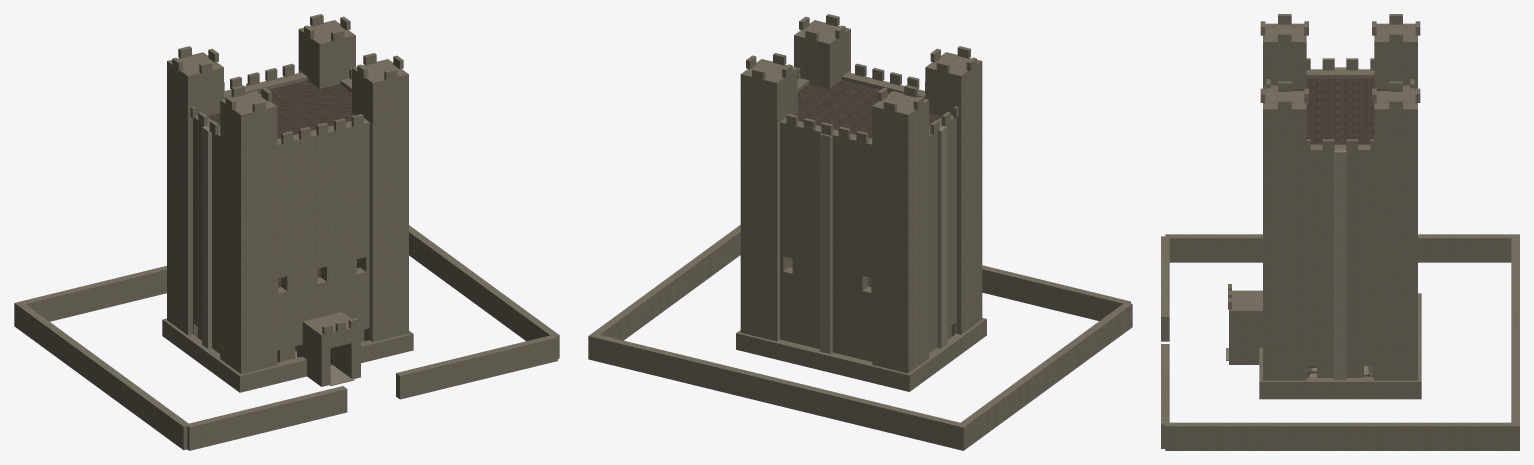
File: prop_hk_keep.glb
3 views of the same model, side by side, from view 1: azimuth 30°, elevation 25°; view 2: azimuth 150°, elevation 25°; view 3: azimuth 270°, elevation 25° (orthographic). The views are drawn at different scales.
Visible parts, largest first — view 1: building_hk_keep; view 2: building_hk_keep; view 3: building_hk_keep.
Part boxes in pixels (left/top/right/bottom): building_hk_keep: left=14, top=14, right=559, bottom=450; building_hk_keep: left=588, top=14, right=1132, bottom=450; building_hk_keep: left=1161, top=14, right=1519, bottom=450.
Bounding box in the file's own units: 57.1 × 41.2 × 45.1.
7 materials, 7 textured.
